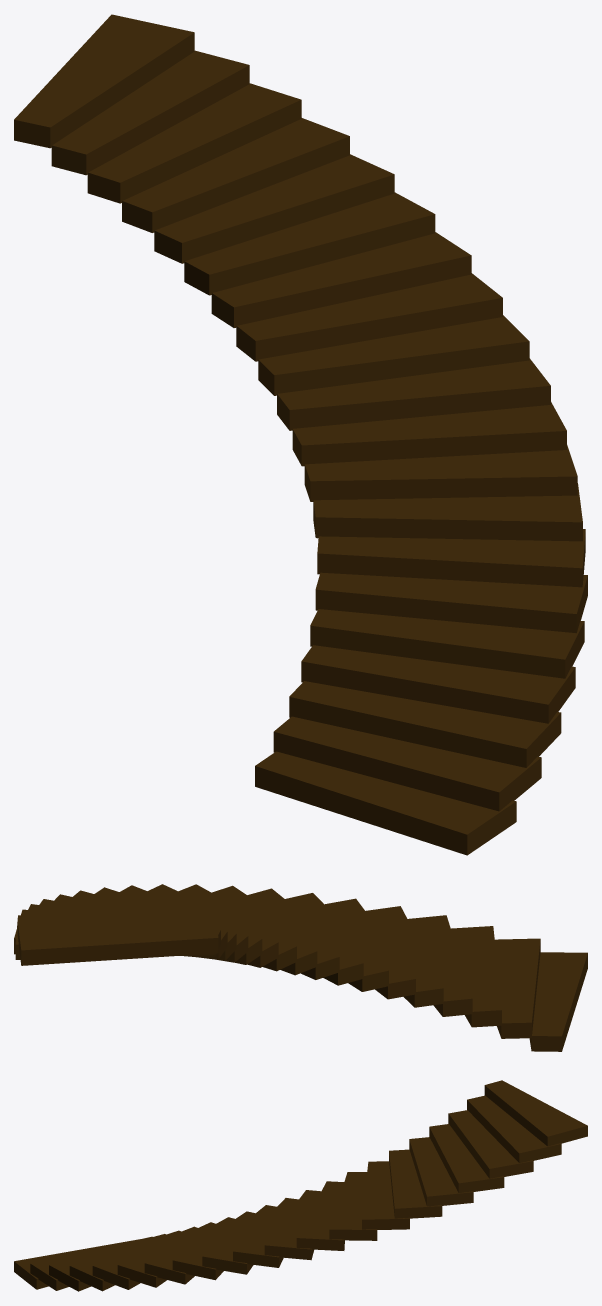
File: spiralstairs.fbx
3 renders of one model, top to bottom at view 1: azimuth 30°, elevation 25°; view 2: azimuth 150°, elevation 25°; view 3: azimuth 270°, elevation 25°, orthographic. The views are drawn at different scales.
Parts seen in each view (by area): view 1: Stair; view 2: Stair; view 3: Stair.
Part boxes in pixels (x1,y1,x2,y2): Stair: (14, 14, 587, 855); Stair: (14, 884, 587, 1051); Stair: (14, 1080, 587, 1291).
Bounding box in the file's own units: 106 × 88.8 × 234.
